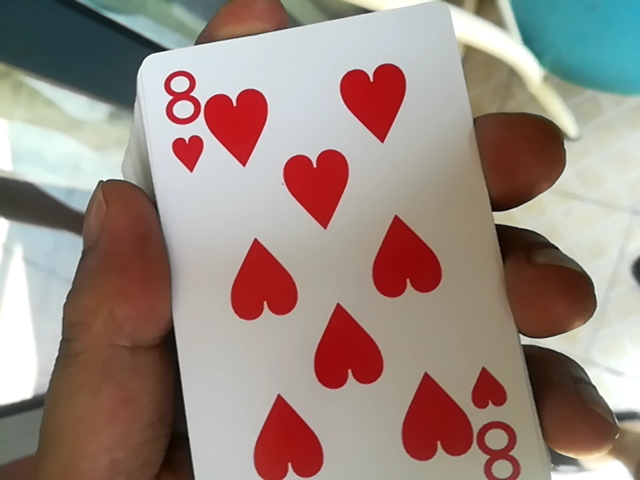hx 8: (141, 14, 585, 479)
